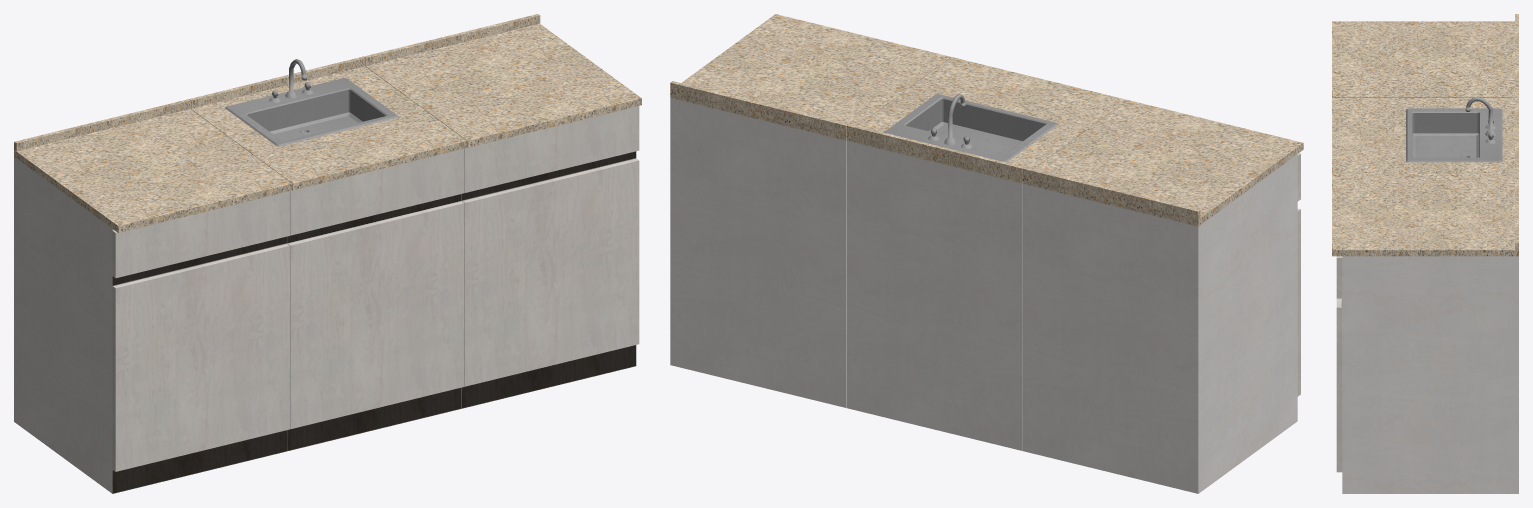
3 views of the same model, side by side, from view 1: azimuth 30°, elevation 25°; view 2: azimuth 150°, elevation 25°; view 3: azimuth 270°, elevation 25° (orthographic). The views are drawn at different scales.
Visible parts, largest first — view 1: Aparador_Final.001, Aparador_Final, AparadorConFregadero_Final; view 2: Aparador_Final.001, Aparador_Final, AparadorConFregadero_Final; view 3: Aparador_Final, AparadorConFregadero_Final, Aparador_Final.001.
Boxes of the visible parts, left/top/right/bottom form: Aparador_Final.001: left=14, top=99, right=292, bottom=493; Aparador_Final: left=363, top=14, right=641, bottom=408; AparadorConFregadero_Final: left=188, top=56, right=467, bottom=451; Aparador_Final.001: left=1022, top=100, right=1303, bottom=493; Aparador_Final: left=670, top=14, right=950, bottom=407; AparadorConFregadero_Final: left=846, top=57, right=1126, bottom=450; Aparador_Final: left=1332, top=166, right=1518, bottom=493; AparadorConFregadero_Final: left=1332, top=90, right=1518, bottom=173; Aparador_Final.001: left=1332, top=14, right=1518, bottom=97.
Size of the model in its own units: 1.71 by 0.9813 by 0.5893.
Materials: 2 (2 with a texture image).
